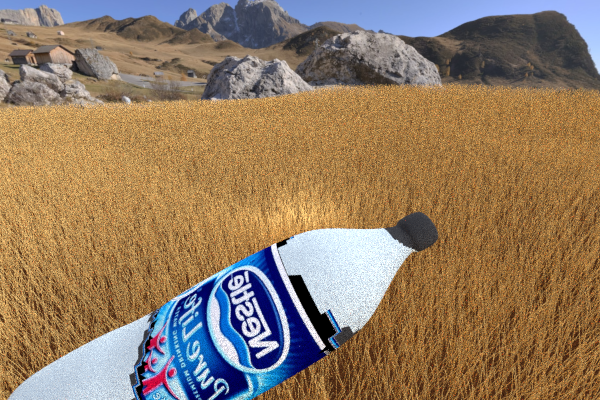Plastic Bottle: (0, 211, 438, 400), (522, 125, 599, 175)
